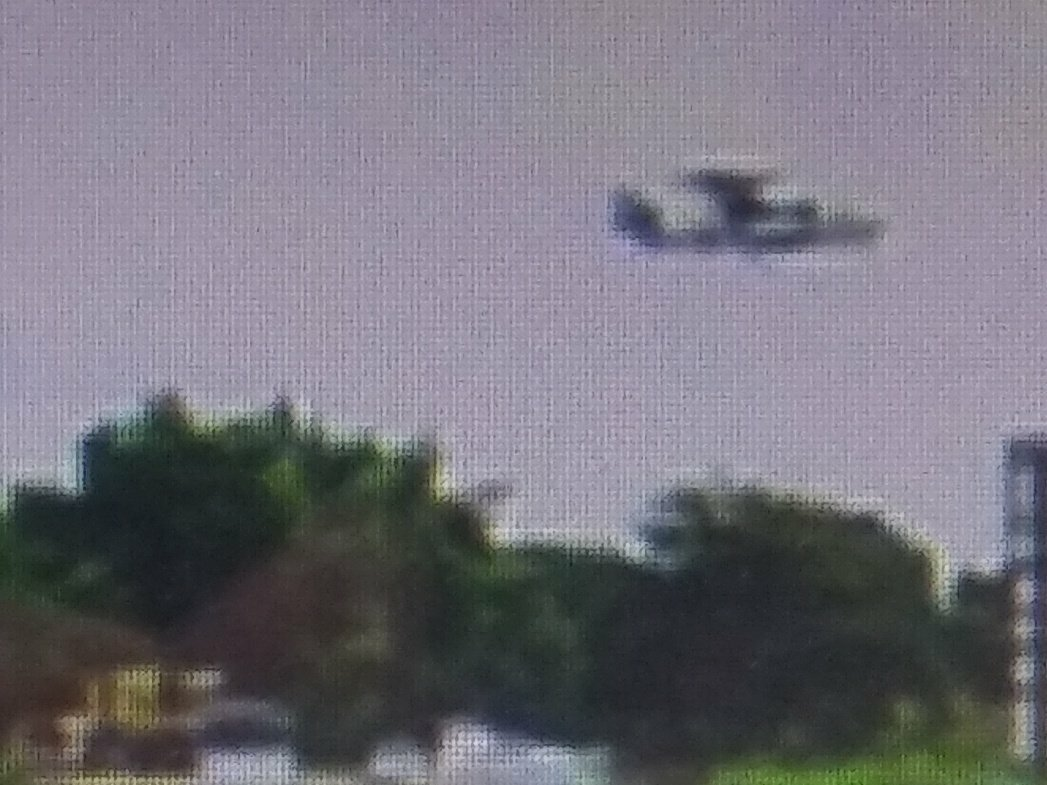E2: (606, 163, 892, 259)
